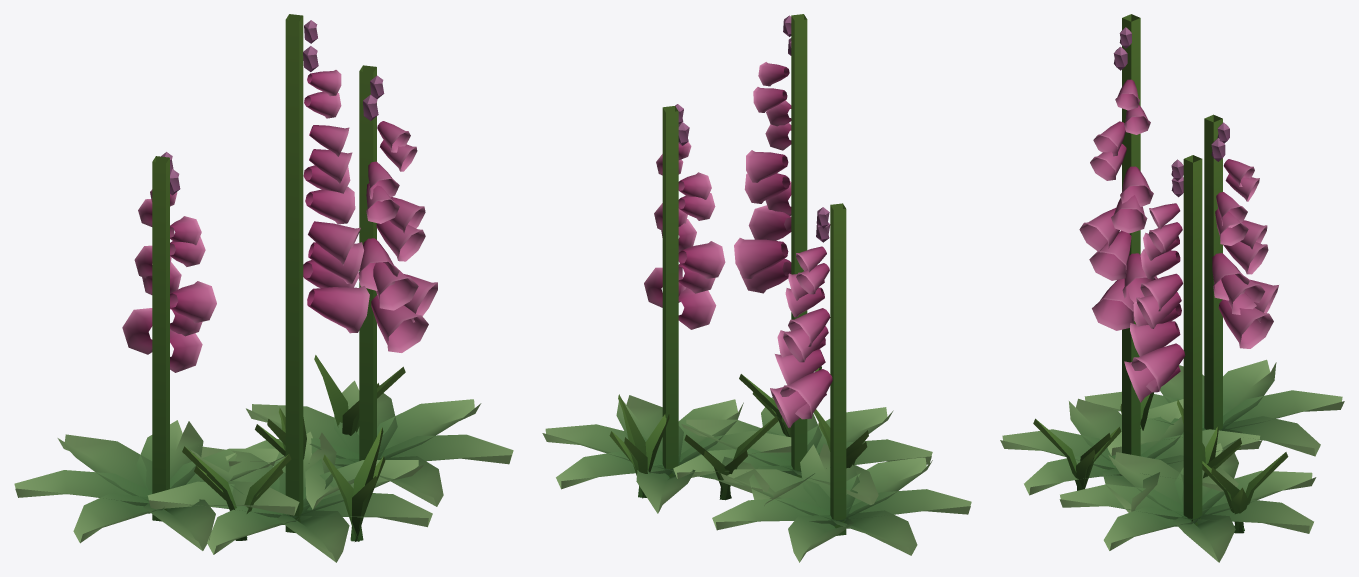
File: fp_foxglove.glb
3 renders of one model, left to right at view 1: azimuth 30°, elevation 25°; view 2: azimuth 150°, elevation 25°; view 3: azimuth 270°, elevation 25°, orthographic. The views are drawn at different scales.
Visible parts, largest first — view 1: fp_foxglove; view 2: fp_foxglove; view 3: fp_foxglove.
Part boxes in pixels (x1,y1,x2,y2): fp_foxglove: [14, 14, 513, 562]; fp_foxglove: [542, 14, 971, 562]; fp_foxglove: [1000, 14, 1344, 562].
Size of the model in its own units: 0.8949 by 1 by 0.6708.
